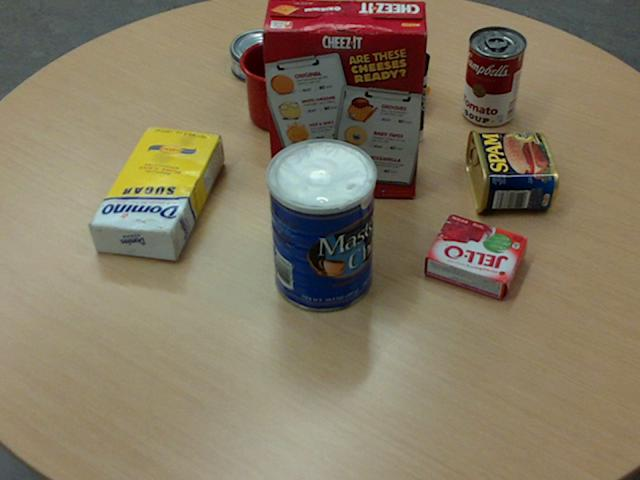cracker_box: (259, 0, 426, 196)
gelatin_box: (424, 213, 529, 298)
large_marker: (407, 50, 429, 141)
master_chef_can: (265, 138, 375, 312)
mug: (238, 38, 320, 131)
mustard_bottle: (302, 8, 430, 98)
potted_meat_can: (464, 129, 557, 212)
sugar_box: (87, 125, 222, 260)
tomato_soup_can: (462, 25, 526, 125)
tuna_fish_can: (229, 27, 293, 83)
